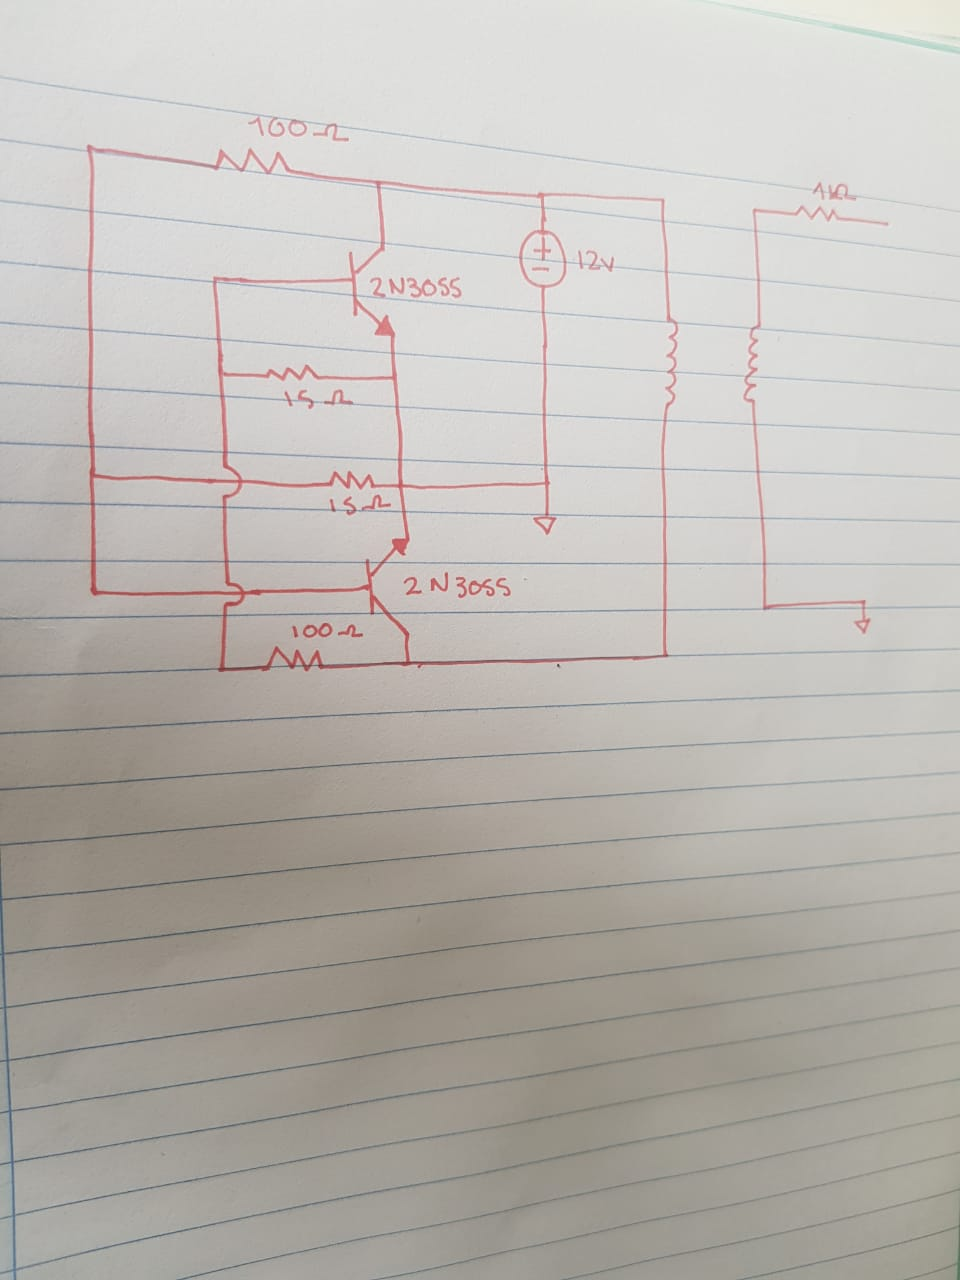crossover: (219, 462, 245, 504), (221, 577, 247, 612)
gnd: (529, 512, 560, 537), (851, 613, 873, 637)
junction: (202, 266, 225, 290), (211, 364, 232, 385), (654, 648, 678, 667), (747, 201, 766, 223), (383, 367, 403, 387), (368, 175, 389, 195), (83, 582, 104, 601), (755, 599, 773, 620), (650, 194, 672, 212), (533, 185, 553, 204), (81, 138, 99, 157), (538, 477, 555, 495), (85, 464, 101, 482), (394, 477, 409, 494), (856, 596, 871, 610), (401, 654, 414, 669), (215, 662, 227, 676)
resistor: (208, 142, 301, 182), (259, 642, 329, 677), (785, 198, 850, 233), (326, 467, 382, 497), (262, 360, 325, 387)
terminal: (880, 216, 895, 232)
text: (247, 111, 354, 151), (403, 570, 514, 601), (371, 271, 463, 303), (280, 386, 357, 415), (288, 622, 368, 647), (325, 495, 390, 517), (573, 245, 621, 272), (809, 180, 861, 204)
transformer: (655, 302, 767, 426)
transistor: (341, 239, 405, 342), (364, 533, 417, 641)
voltage.dc: (516, 225, 570, 292)
